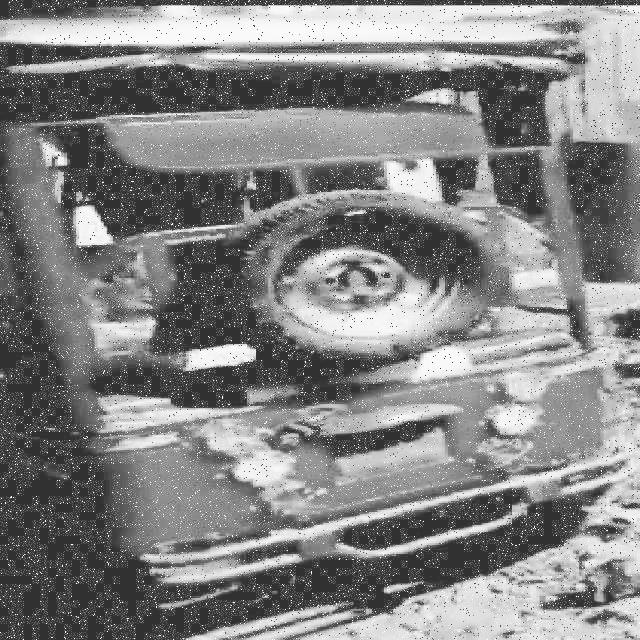Toto: (2, 15, 628, 610)
